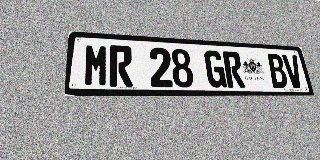2: (149, 47, 173, 87)
8: (170, 48, 194, 87)
B: (266, 54, 289, 88)
G: (204, 50, 227, 87)
M: (83, 44, 109, 87)
R: (109, 45, 133, 87), (222, 51, 246, 88)
V: (282, 54, 305, 88)
